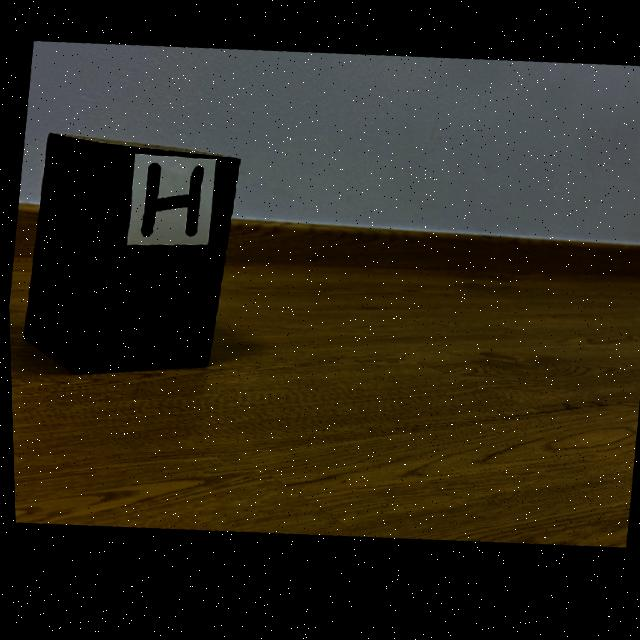H: (139, 166, 202, 240)
